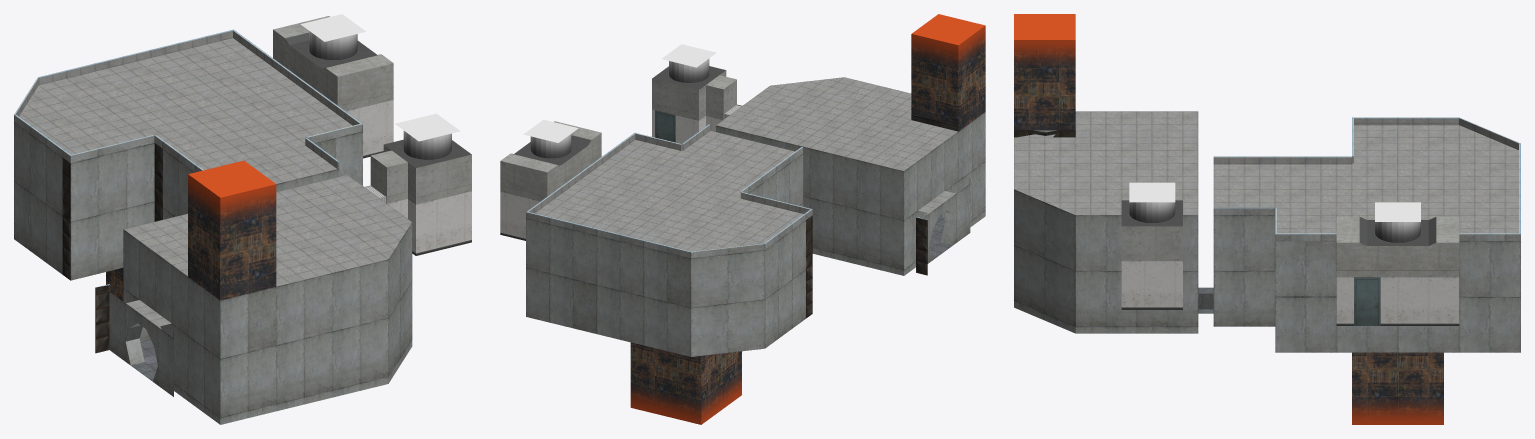
File: chamber.glb
3 views of the same model, side by side, from view 1: azimuth 30°, elevation 25°; view 2: azimuth 150°, elevation 25°; view 3: azimuth 270°, elevation 25° (orthographic). The views are drawn at different scales.
Visible parts, largest first — view 1: Object_79, Object_77, Object_76, Object_90, Object_108, Object_84, Object_78, Object_105, Object_104, Object_91, Object_115, Object_83 (+3 smaller); view 2: Object_77, Object_79, Object_84, Object_76, Object_90, Object_78, Object_105, Object_108, Object_115, Object_91, Object_104, Object_83 (+3 smaller); view 3: Object_79, Object_77, Object_76, Object_108, Object_84, Object_90, Object_105, Object_91, Object_115, Object_83, Object_111, Object_89 (+2 smaller).
Part boxes in pixels (x1,y1,x2,y2): Object_79: (16, 30, 411, 326); Object_77: (14, 115, 412, 424); Object_76: (14, 181, 412, 417); Object_90: (273, 16, 471, 197); Object_108: (339, 92, 471, 255); Object_84: (106, 174, 276, 300); Object_78: (220, 131, 362, 358); Object_105: (106, 233, 276, 300); Object_104: (62, 143, 162, 353); Object_91: (300, 14, 460, 141); Object_115: (309, 31, 451, 159); Object_83: (188, 160, 275, 197); Object_77: (526, 112, 985, 356); Object_79: (529, 77, 957, 251); Object_84: (630, 26, 985, 424); Object_76: (765, 178, 970, 348); Object_90: (500, 70, 736, 196); Object_78: (549, 247, 690, 333); Object_105: (630, 75, 985, 375); Object_108: (500, 103, 723, 240); Object_115: (530, 58, 709, 158); Object_91: (523, 44, 716, 142); Object_104: (748, 193, 927, 318); Object_83: (912, 14, 985, 45); Object_79: (1014, 111, 1518, 233); Object_77: (1014, 130, 1520, 352); Object_76: (1014, 245, 1275, 326); Object_108: (1121, 254, 1459, 325); Object_84: (1014, 40, 1443, 424); Object_90: (1121, 216, 1459, 270); Object_105: (1014, 95, 1443, 369); Object_91: (1129, 182, 1420, 221); Object_115: (1129, 202, 1420, 242); Object_83: (1014, 14, 1075, 39); Object_111: (1121, 200, 1428, 245); Object_89: (1354, 277, 1380, 325).
Size of the model in its own units: 16.15 by 14.02 by 20.12.
Materials: 41 (38 with a texture image).
